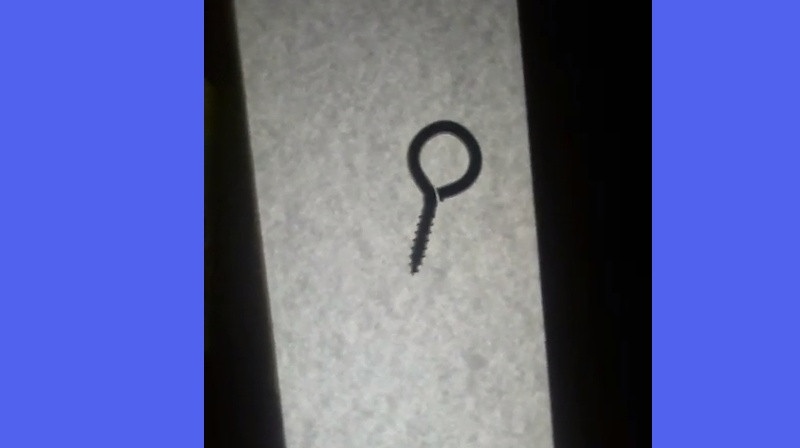O001: (406, 115, 485, 276)
